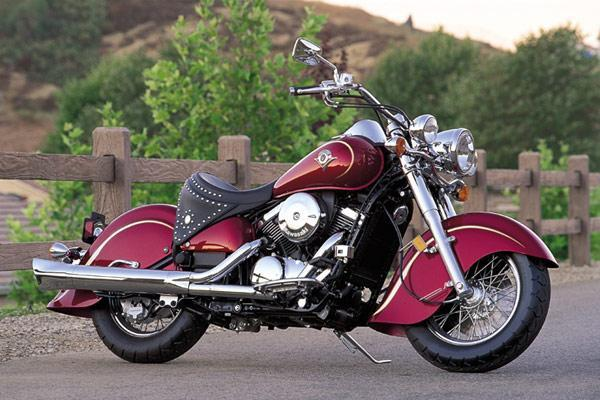motorcycle: (18, 28, 563, 379)
